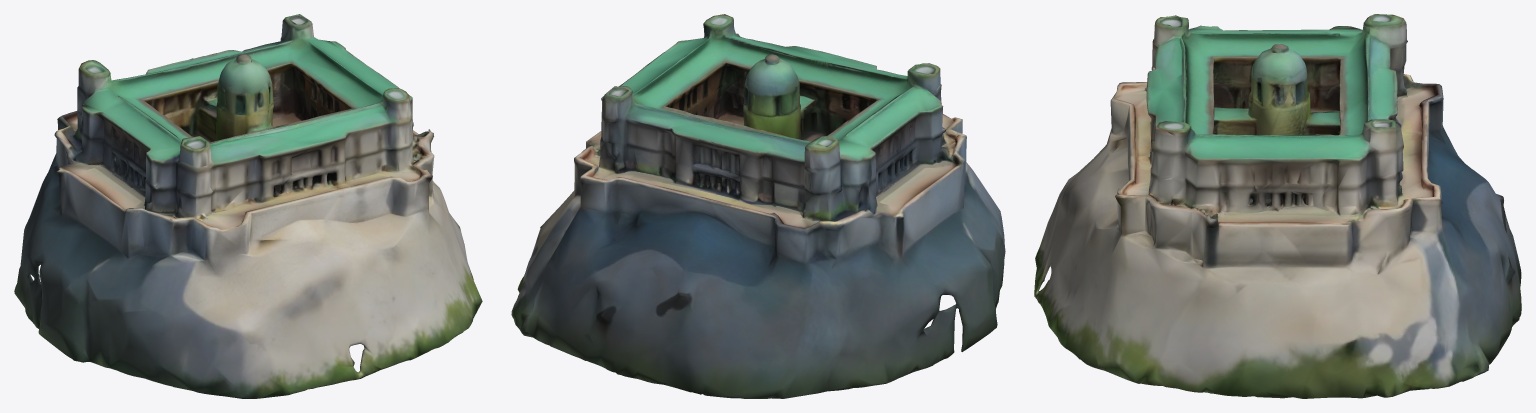
Rendered from landmark-castillo.glb.
3 views of the same model, side by side, from view 1: azimuth 30°, elevation 25°; view 2: azimuth 150°, elevation 25°; view 3: azimuth 270°, elevation 25° (orthographic). The views are drawn at different scales.
Size of the model in its own units: 2 by 1.14 by 2.
1 material, 1 textured.
